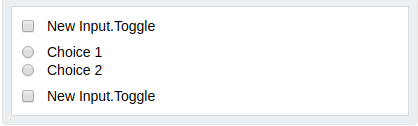checkbox: (19, 13, 164, 39), (22, 85, 166, 107)
radio_button: (20, 61, 113, 84), (19, 41, 108, 60)
